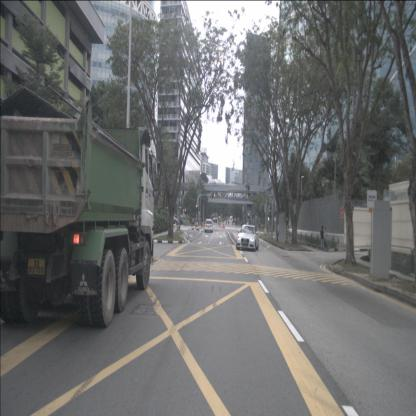human-pedestrian-adult: (320, 226, 326, 251), (323, 227, 328, 250), (276, 223, 280, 242)
vehicle-car: (236, 224, 259, 252), (204, 218, 214, 233), (166, 214, 178, 226)
vehicle-truck: (0, 96, 155, 329)
